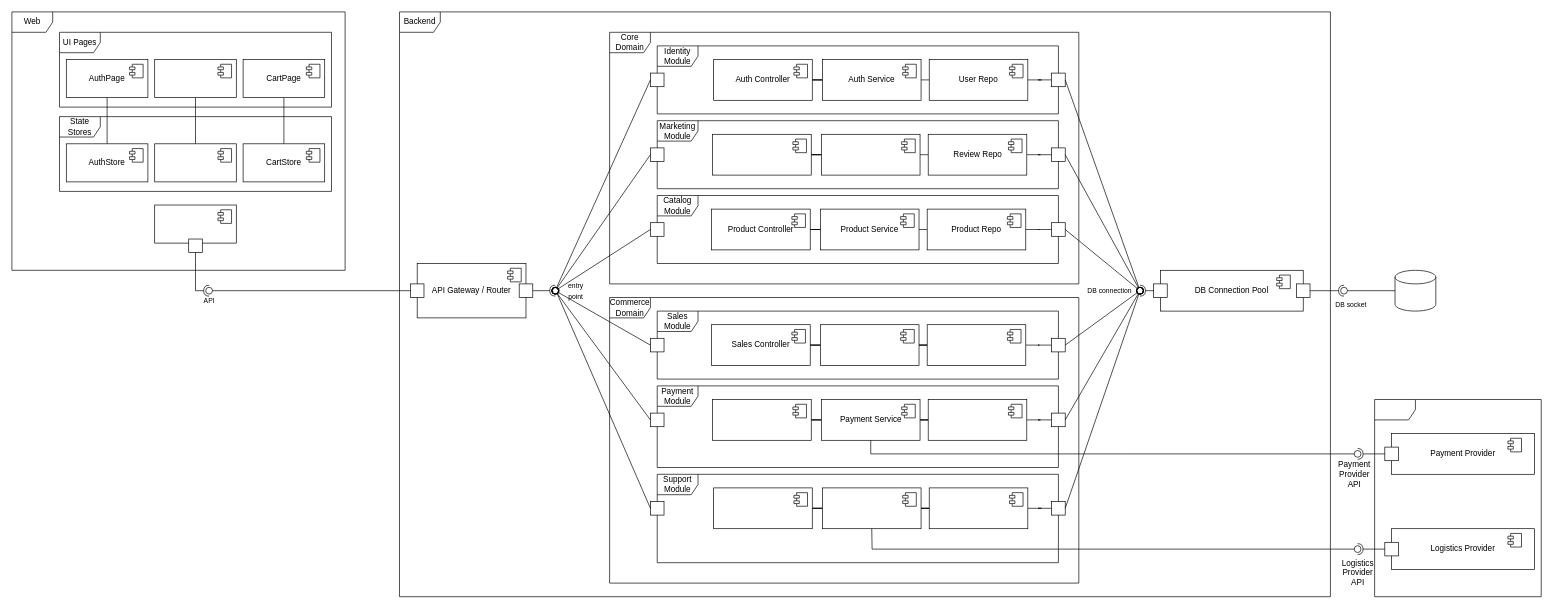
Some shapes in this 1553 by 609 pixel diagram are drawn without their labels. The centre of each missing label's shape, as x and y in pixels:
"API Adapter" goes at (195,223).
"CatalogStore" goes at (195,162).
"DB" goes at (1415,290).
"Delivery Repo" goes at (978,508).
"Delivery Service" goes at (871,508).
"External" goes at (1457,498).
"Payment Controller" goes at (761,419).
"Payment Repo" goes at (977,419).
"Review Controller" goes at (761,154).
"Review Service" goes at (870,154).
"Sales Repo" goes at (976,345).
"Sales Service" goes at (869,345).
"ShopPage" goes at (195,78).
"Tracking Controller" goes at (762,508).
